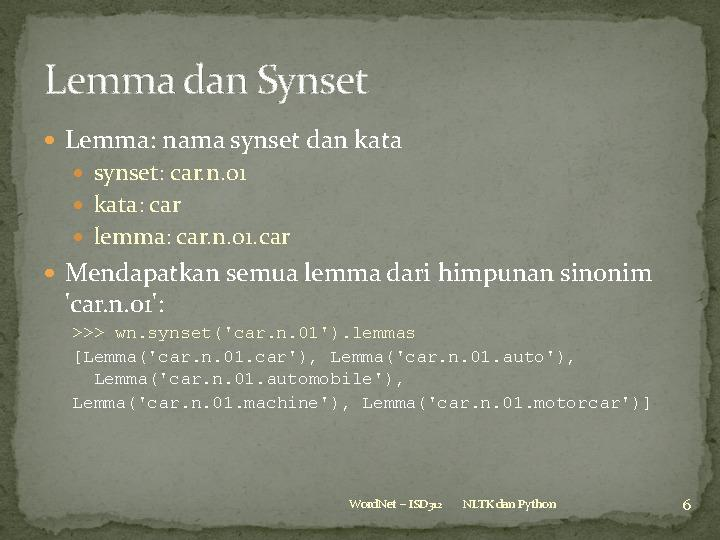paragraph: (40, 122, 671, 437)
subtitle: (340, 486, 576, 523)
title: (36, 49, 386, 109)
